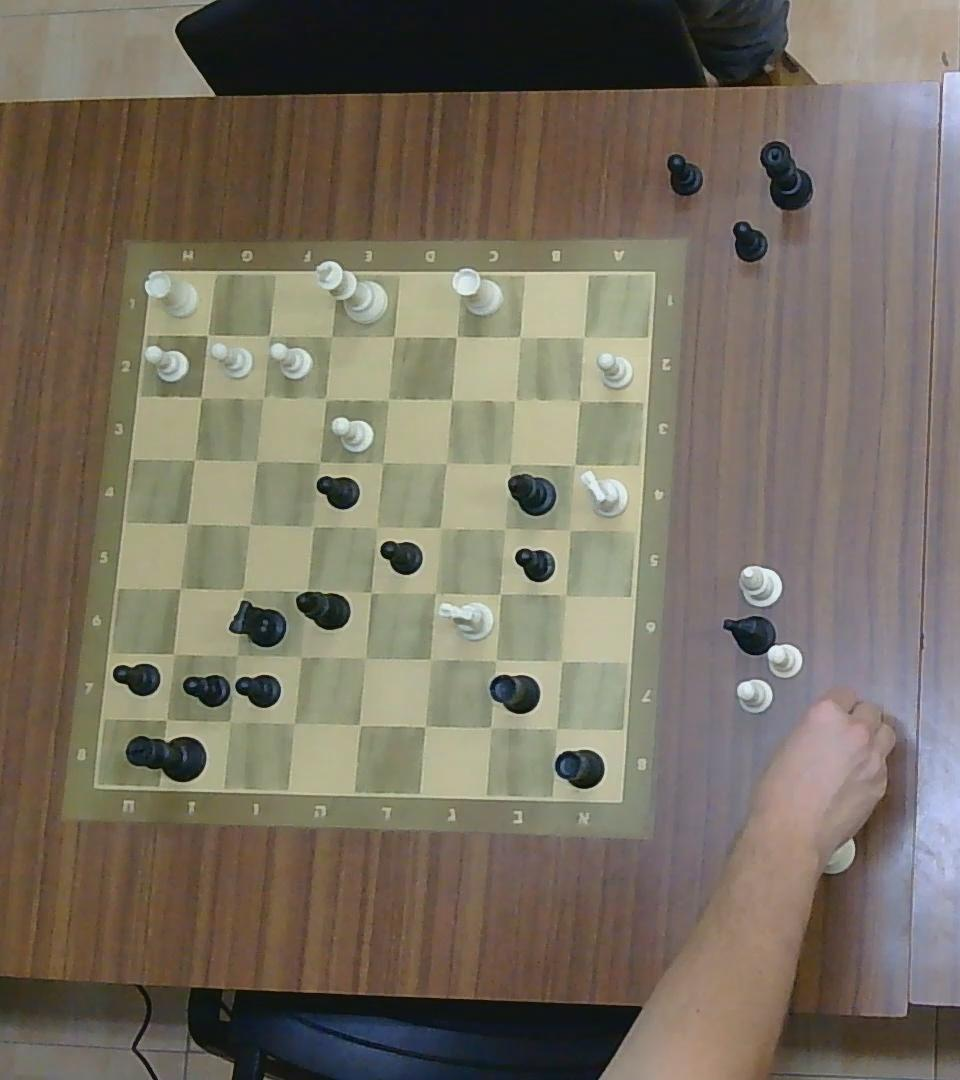xcorner: (378, 322, 408, 346), (441, 328, 472, 350), (213, 712, 244, 730), (317, 386, 336, 411), (487, 644, 505, 670), (195, 320, 216, 342), (493, 521, 516, 541), (443, 389, 464, 410), (377, 386, 397, 408), (155, 709, 178, 728), (560, 518, 578, 542), (551, 652, 571, 673), (558, 586, 573, 614), (425, 585, 445, 606), (294, 580, 316, 599), (195, 382, 213, 404), (430, 518, 452, 536), (376, 458, 402, 473), (235, 516, 262, 530), (350, 717, 373, 732), (359, 584, 382, 599), (367, 520, 388, 536), (236, 579, 253, 598), (574, 325, 594, 341), (253, 385, 269, 405), (171, 579, 189, 596), (356, 650, 373, 668), (308, 518, 327, 534), (296, 650, 314, 666), (488, 589, 510, 602), (421, 653, 440, 668), (506, 393, 526, 407), (163, 649, 184, 662), (247, 453, 265, 468), (287, 717, 305, 732), (570, 393, 587, 408), (482, 719, 499, 734), (184, 453, 202, 467), (265, 327, 281, 342), (229, 649, 247, 662), (315, 455, 331, 469), (438, 457, 454, 471), (182, 517, 198, 531), (513, 327, 528, 341), (549, 721, 565, 734), (327, 326, 336, 346), (417, 722, 437, 731), (566, 460, 580, 470), (502, 460, 514, 468)
